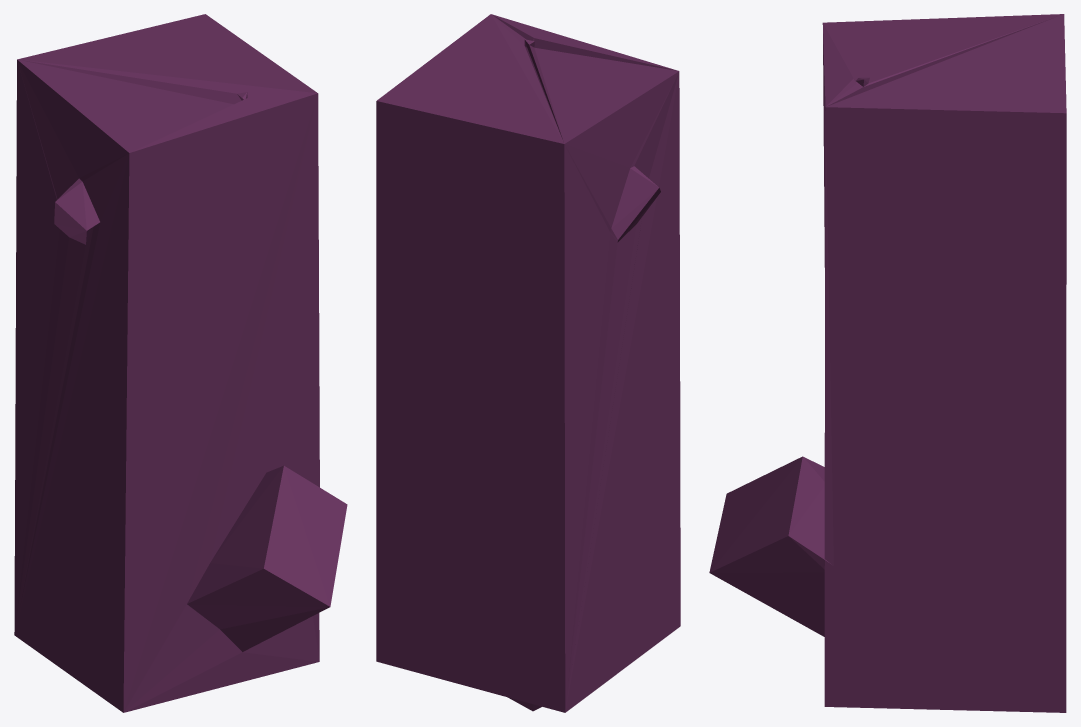
The picture shows the model from 3 angles, left to right: view 1: azimuth 30°, elevation 25°; view 2: azimuth 150°, elevation 25°; view 3: azimuth 270°, elevation 25°; orthographic projection. The views are drawn at different scales.
Parts seen in each view (by area): view 1: 352_Cube.1439; view 2: 352_Cube.1439; view 3: 352_Cube.1439.
Part boxes in pixels (x1,y1,x2,y2): 352_Cube.1439: (14,14,347,712); 352_Cube.1439: (376,14,680,712); 352_Cube.1439: (709,14,1066,712).
Bounding box in the file's own units: 5.03 × 13.21 × 6.46.
